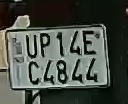1: (54, 32, 67, 59)
4: (66, 29, 82, 57), (40, 59, 57, 84), (69, 58, 83, 86), (83, 58, 98, 83)
8: (56, 59, 69, 86)
C: (26, 59, 41, 87)
E: (80, 30, 98, 58)
P: (39, 33, 51, 59)
U: (24, 32, 38, 61)
